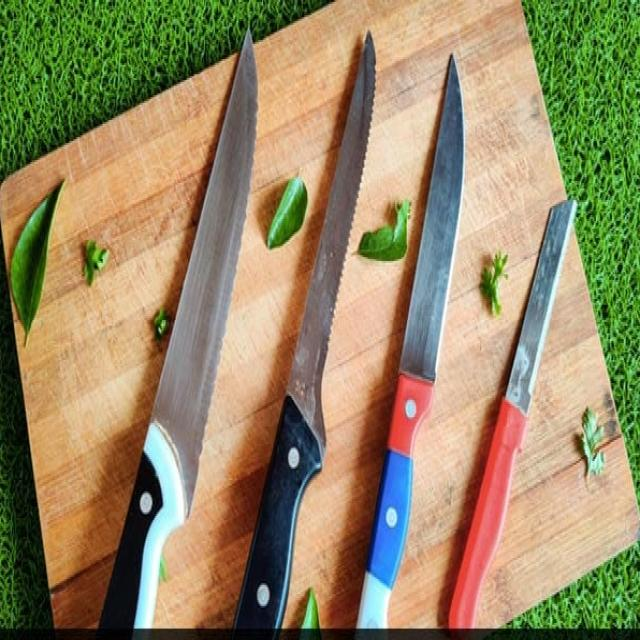Weapon: (98, 32, 257, 640), (234, 30, 374, 638), (357, 53, 464, 630), (448, 200, 574, 638)
